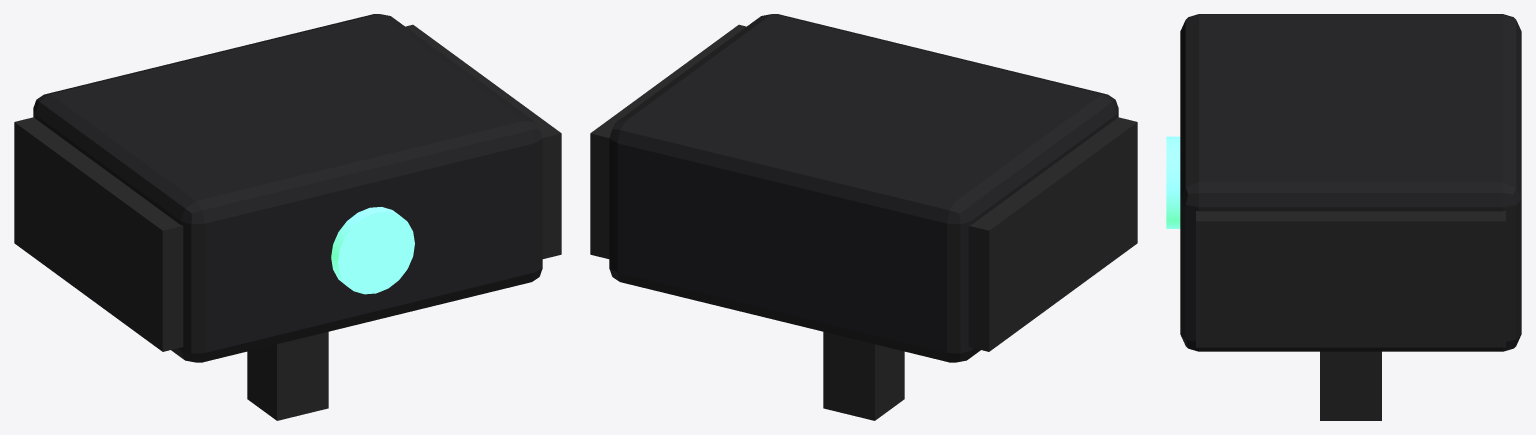
The model's file is laser.glb.
3 renders of one model, left to right at view 1: azimuth 30°, elevation 25°; view 2: azimuth 150°, elevation 25°; view 3: azimuth 270°, elevation 25°, orthographic. The views are drawn at different scales.
Visible parts, largest first — view 1: cuerpo.002, aleta, soporte, apertura, aleta.001; view 2: cuerpo.002, aleta, soporte, aleta.001; view 3: cuerpo.002, aleta.001, soporte, apertura.
Part boxes in pixels (left/top/right/bottom): cuerpo.002: left=33, top=14, right=542, bottom=362; aleta: left=14, top=117, right=183, bottom=351; soporte: left=247, top=332, right=328, bottom=420; apertura: left=331, top=207, right=414, bottom=294; aleta.001: left=405, top=24, right=561, bottom=258; cuerpo.002: left=609, top=14, right=1118, bottom=362; aleta: left=968, top=117, right=1137, bottom=351; soporte: left=823, top=332, right=904, bottom=420; aleta.001: left=590, top=24, right=746, bottom=258; cuerpo.002: left=1180, top=14, right=1521, bottom=351; aleta.001: left=1196, top=211, right=1505, bottom=347; soporte: left=1320, top=351, right=1381, bottom=420; apertura: left=1166, top=136, right=1180, bottom=228.
Size of the model in its own units: 0.31 by 0.22 by 0.229.
